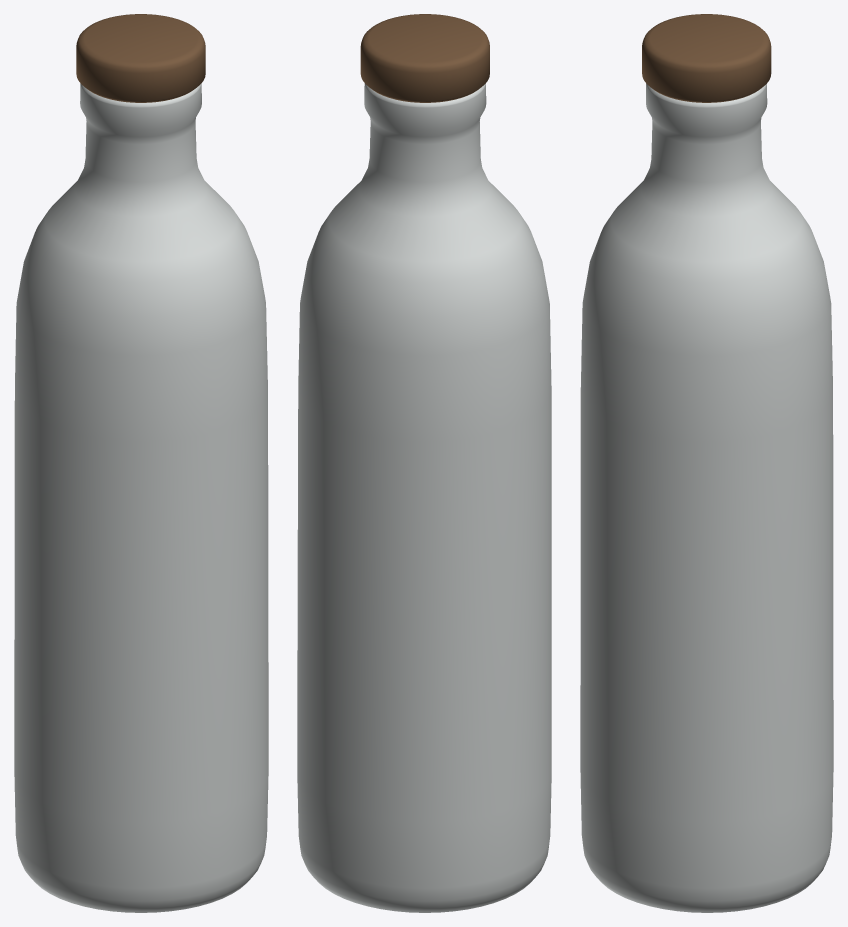
The model's file is bottle_whisky.glb.
3 renders of one model, left to right at view 1: azimuth 30°, elevation 25°; view 2: azimuth 150°, elevation 25°; view 3: azimuth 270°, elevation 25°, orthographic.
Parts seen in each view (by area): view 1: Glass, Cap; view 2: Glass, Cap; view 3: Glass, Cap.
Part boxes in pixels (bbox=[...]): Glass: bbox=[14, 83, 268, 912]; Cap: bbox=[76, 14, 205, 102]; Glass: bbox=[297, 83, 551, 912]; Cap: bbox=[360, 14, 489, 102]; Glass: bbox=[580, 83, 833, 912]; Cap: bbox=[642, 14, 771, 102].
Bounding box in the file's own units: 0.0769 × 0.2765 × 0.0765.
